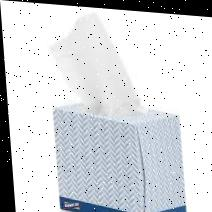cube: (53, 100, 185, 212)
